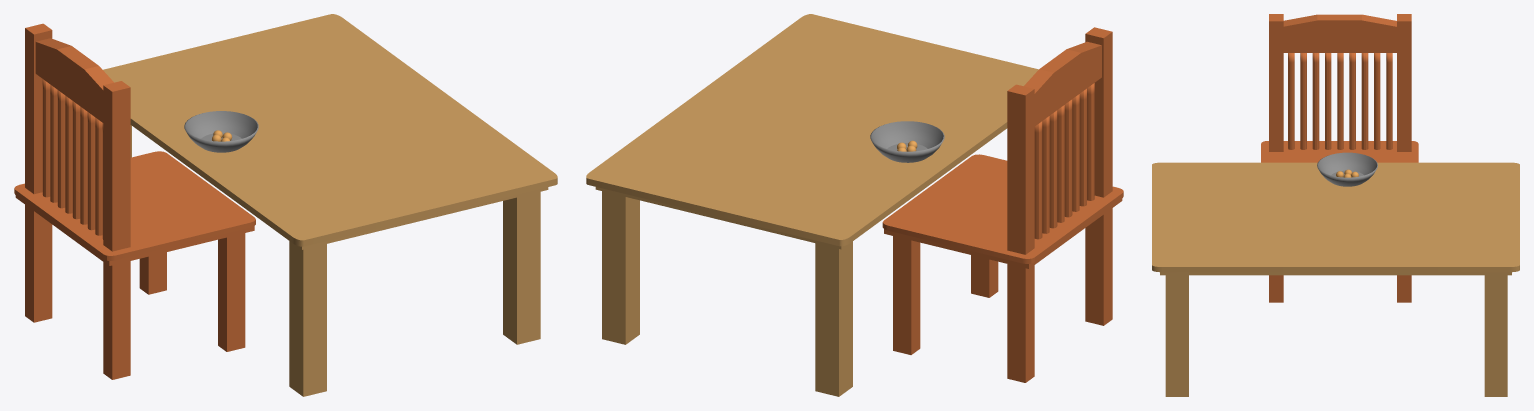
File: Table.glb
3 views of the same model, side by side, from view 1: azimuth 30°, elevation 25°; view 2: azimuth 150°, elevation 25°; view 3: azimuth 270°, elevation 25° (orthographic). The views are drawn at different scales.
Visible parts, largest first — view 1: Cube; view 2: Cube; view 3: Cube.
Part boxes in pixels (x1,y1,x2,y2): Cube: (14,14,557,396); Cube: (586,14,1123,396); Cube: (1152,14,1519,396).
Bounding box in the file's own units: 2.48 × 1.78 × 2.5.
